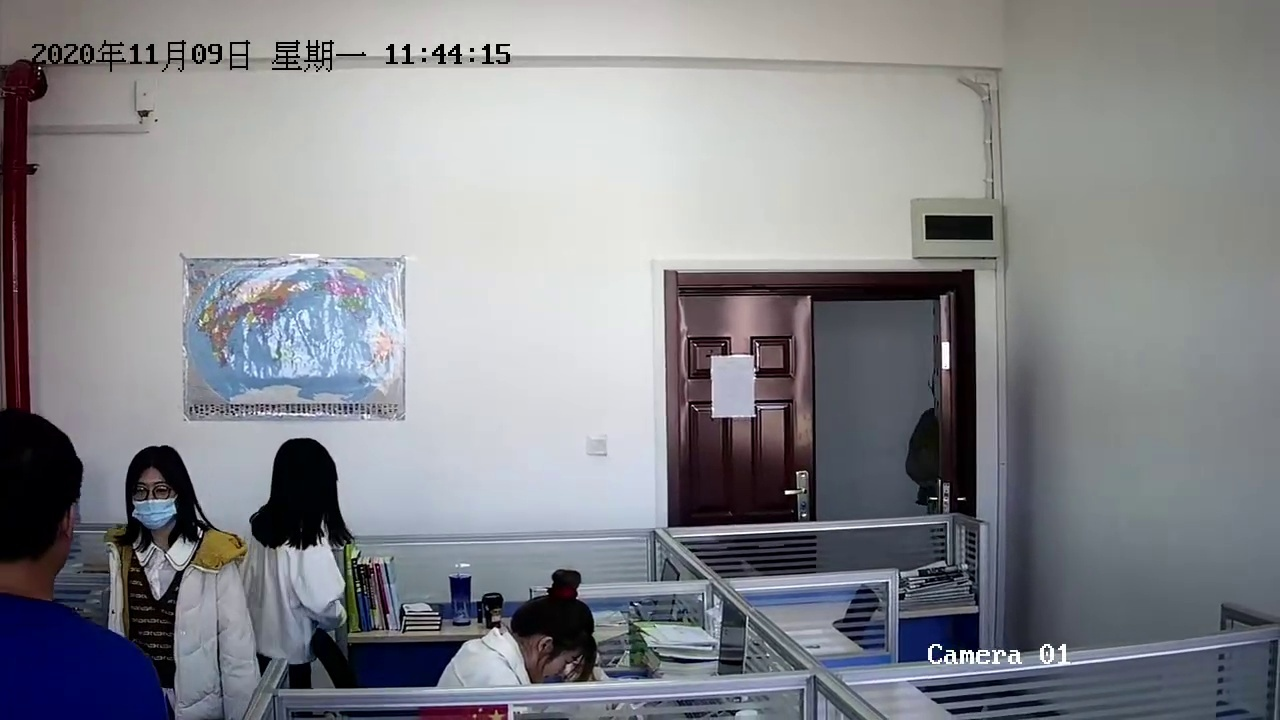mask: (128, 448, 188, 532)
